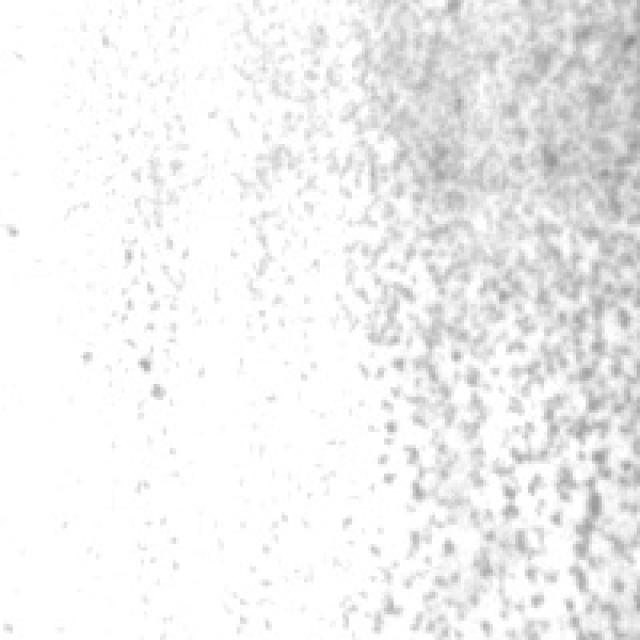pitted_surface: (326, 0, 634, 618), (83, 0, 320, 365)
